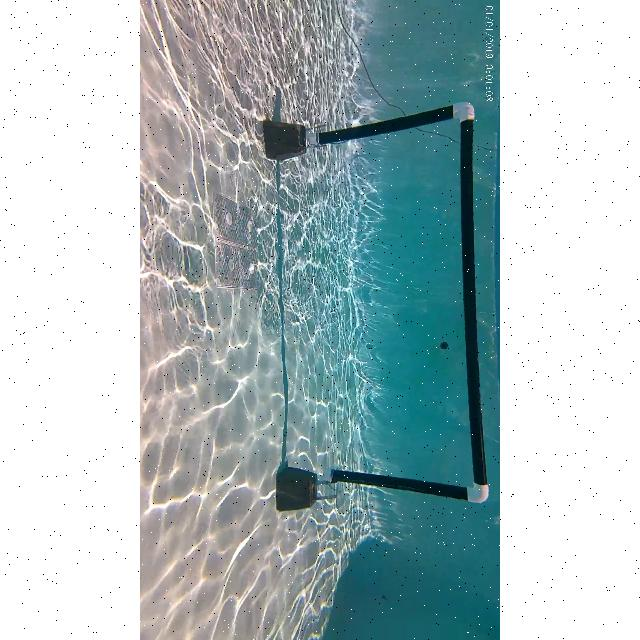prequal gate: (319, 103, 489, 505)
prequal gate leg l: (303, 103, 477, 143)
prequal gate leg r: (323, 464, 494, 511)
